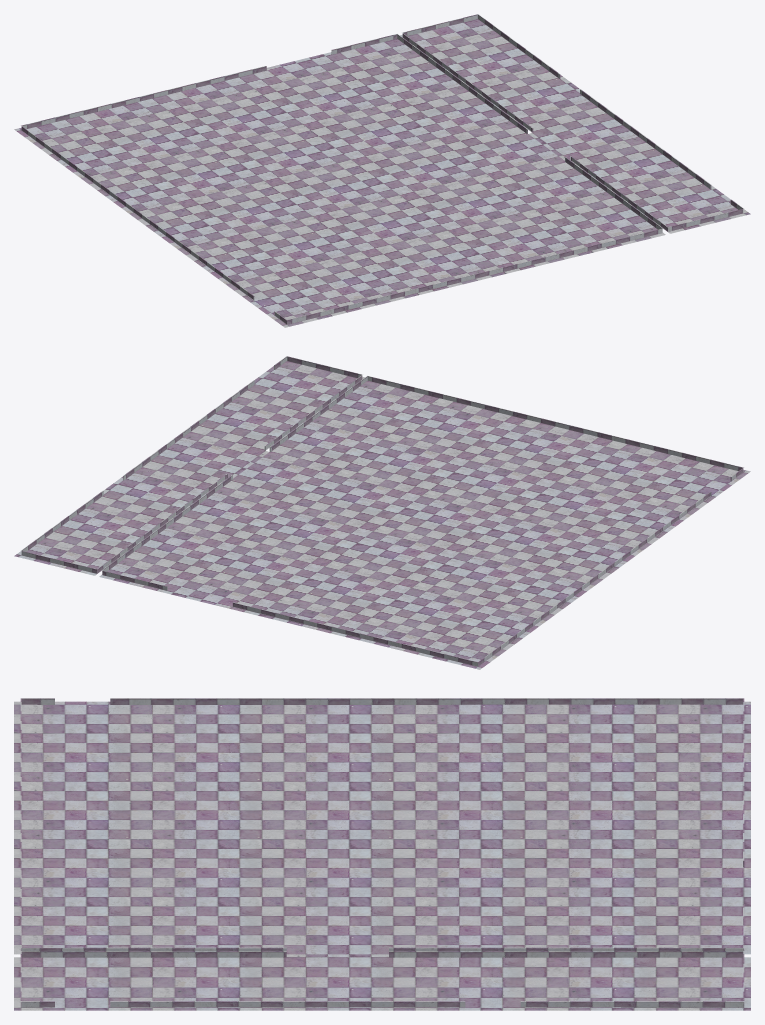
The model's file is A4_H2_Floor.FBX.
3 renders of one model, top to bottom at view 1: azimuth 30°, elevation 25°; view 2: azimuth 150°, elevation 25°; view 3: azimuth 270°, elevation 25°, orthographic. The views are drawn at different scales.
Visible parts, largest first — view 1: A4_H2_Floor; view 2: A4_H2_Floor; view 3: A4_H2_Floor.
Part boxes in pixels (bbox=[...]): A4_H2_Floor: bbox=[14, 14, 750, 327]; A4_H2_Floor: bbox=[14, 356, 750, 669]; A4_H2_Floor: bbox=[14, 698, 750, 1010].
Bounding box in the file's own units: 1655 × 15.35 × 1667.
1 material, 1 textured.
